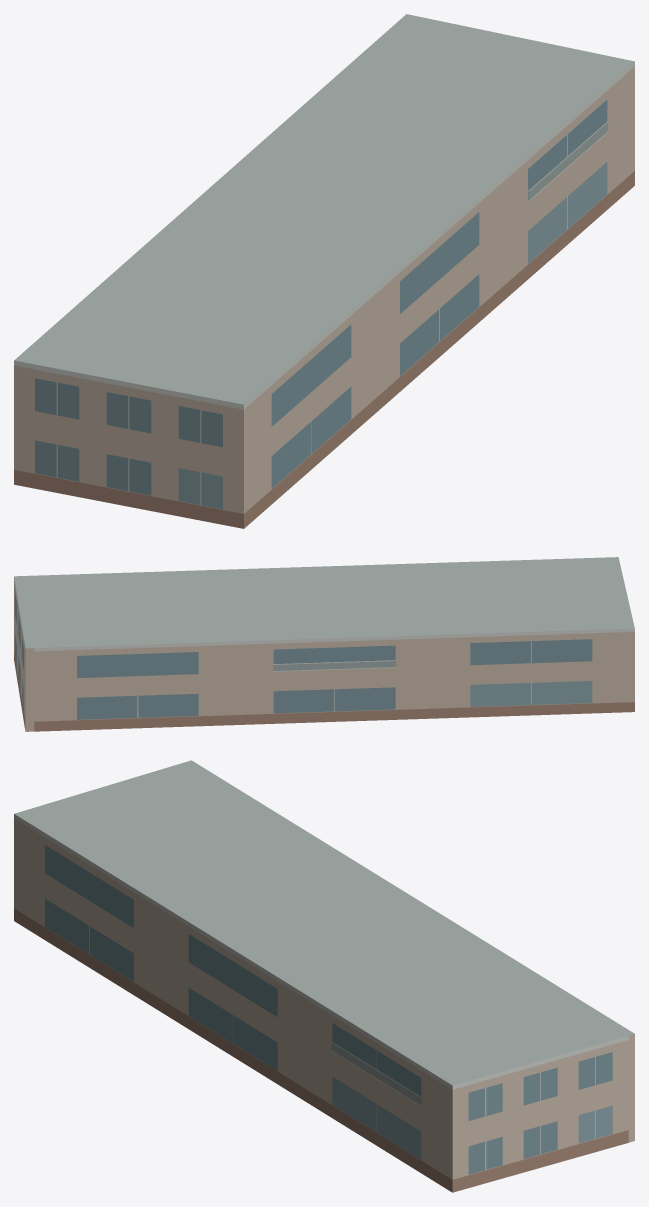
File: survey-upis-32843875.glb
3 views of the same model, one above another, from view 1: azimuth 30°, elevation 25°; view 2: azimuth 150°, elevation 25°; view 3: azimuth 270°, elevation 25° (orthographic). The views are drawn at different scales.
Visible parts, largest first — view 1: survey-upis-32843875.tmp; view 2: survey-upis-32843875.tmp; view 3: survey-upis-32843875.tmp.
Boxes of the visible parts, bbox=[...] form: survey-upis-32843875.tmp: bbox=[14, 14, 634, 528]; survey-upis-32843875.tmp: bbox=[14, 557, 634, 731]; survey-upis-32843875.tmp: bbox=[14, 760, 634, 1192].
Size of the model in its own units: 39.69 by 6.1 by 32.02.
